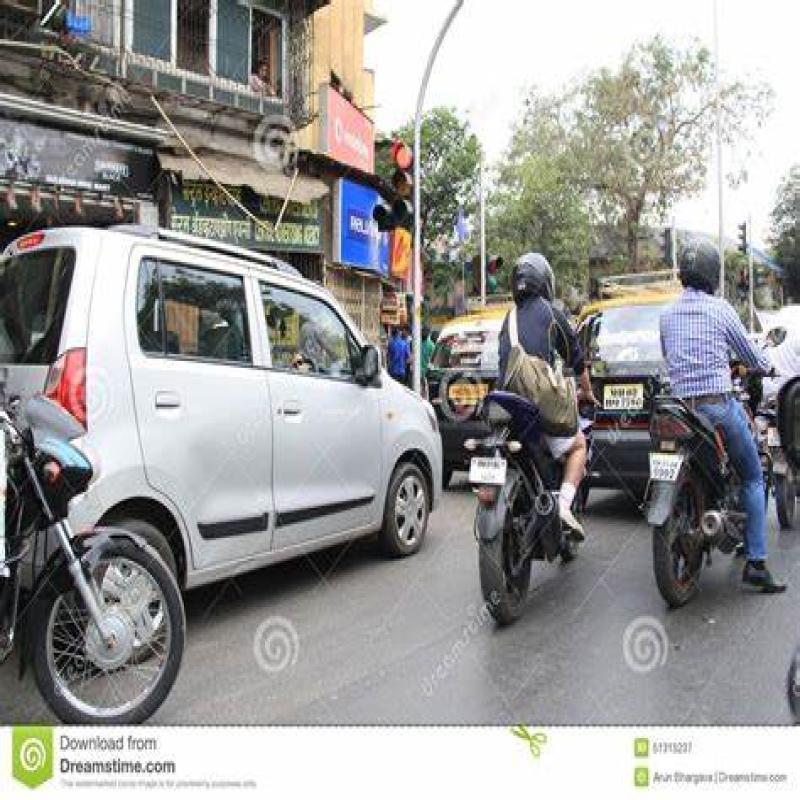bike: (21, 218, 424, 555)
